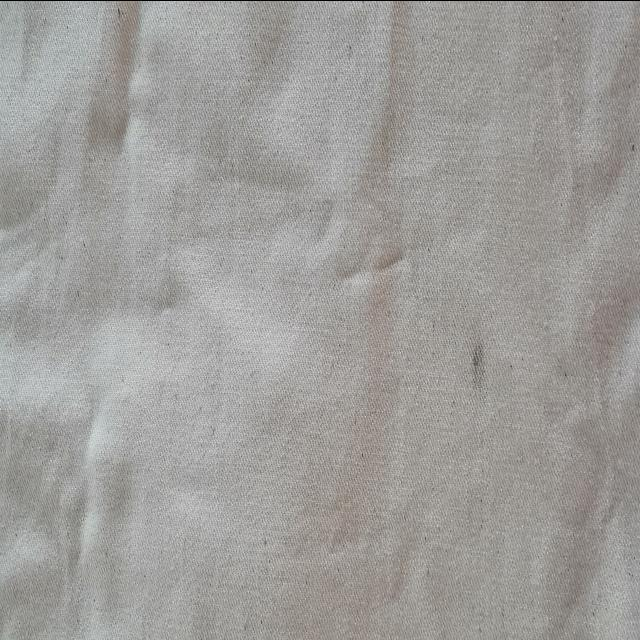taaaches: (456, 314, 507, 424)
